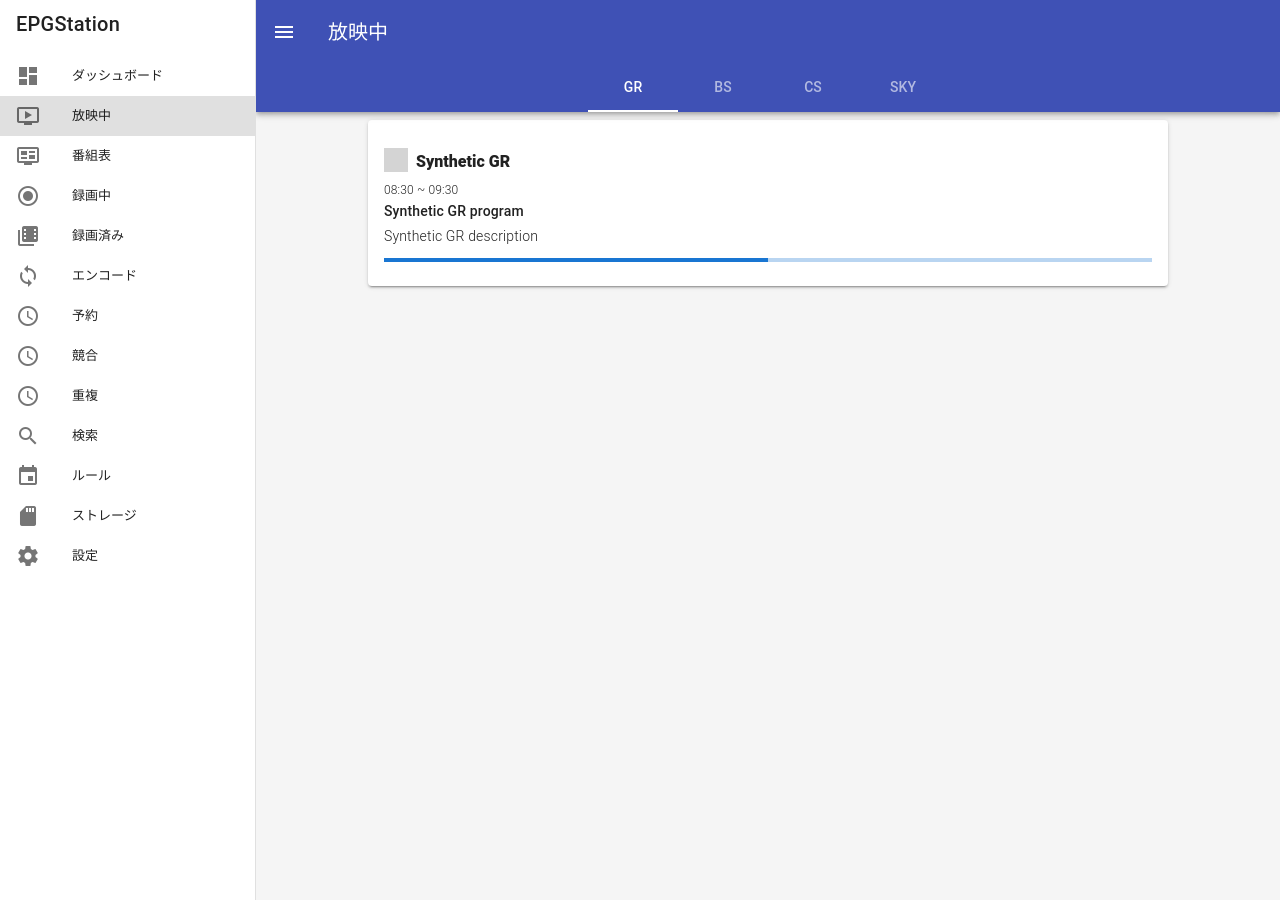
Test: On Air card and ProgramDialog actions › [AC 2.8] shows the shared cancel failure snackbar when ProgramDialog delete fails
The image size is (1280, 900).
Click the button with test id "onair-card-header" at x=400, y=160, box [384,144,1152,176]
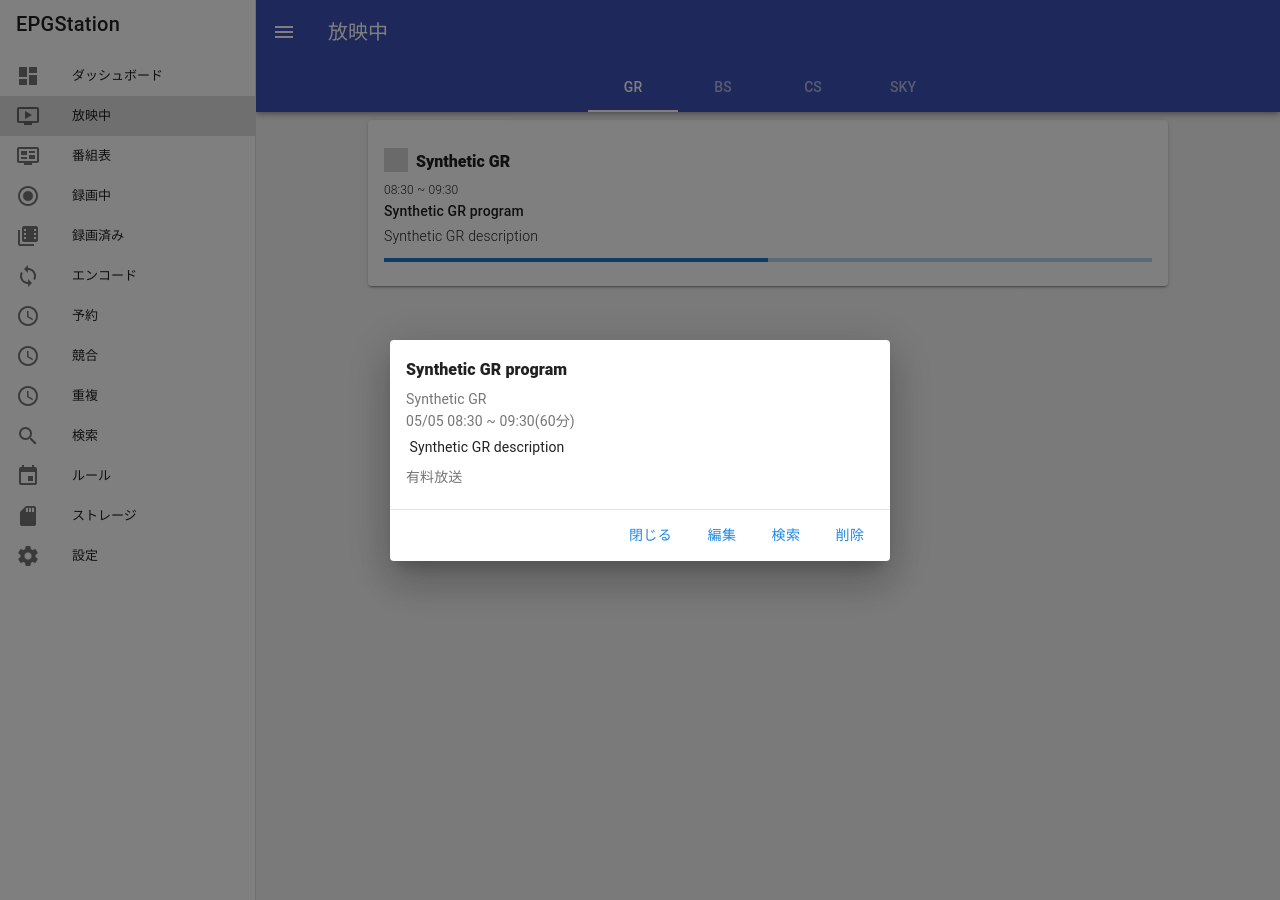
Click the button "削除" at x=850, y=536, box [818,518,882,554]
Wait 200 ms
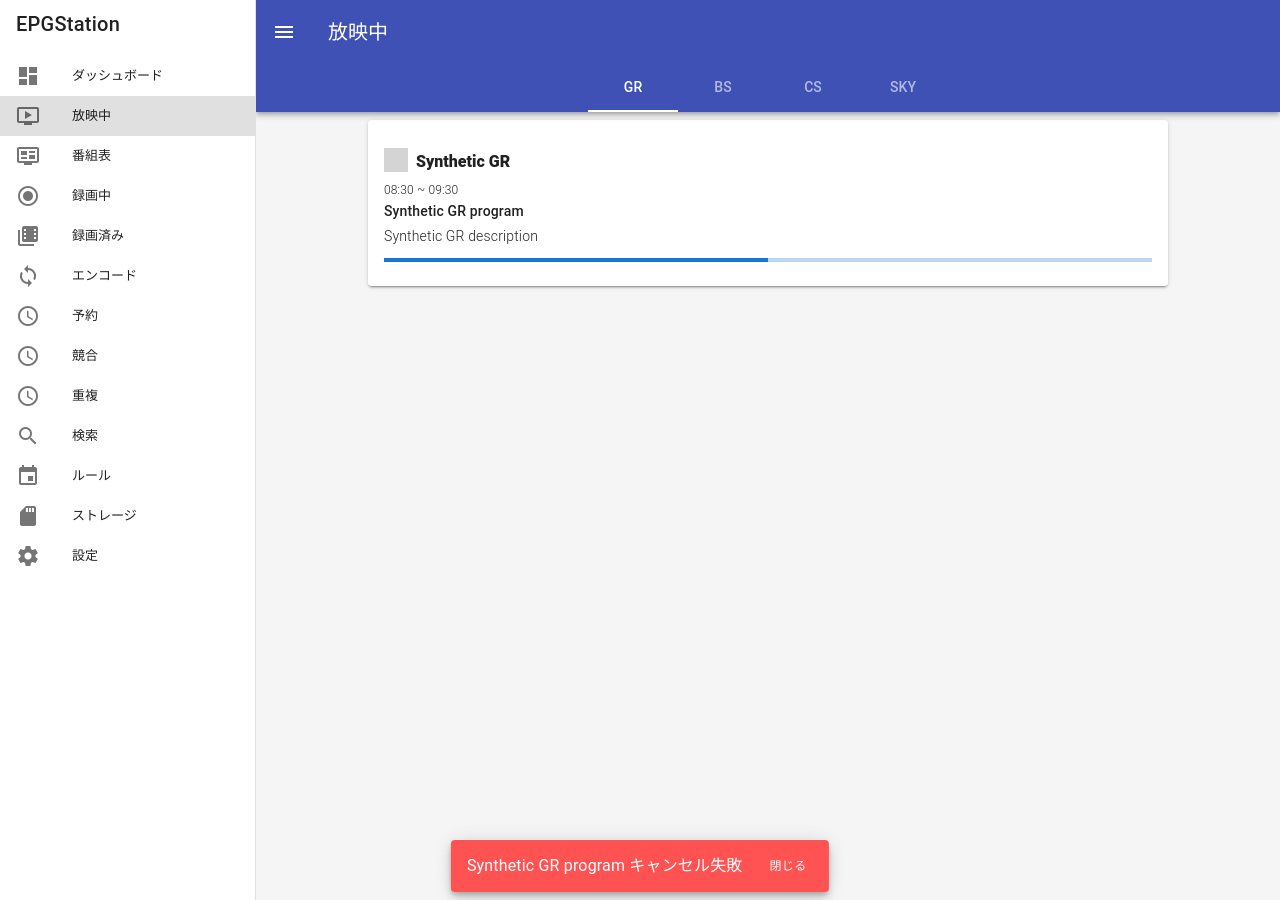
Now the message shows "Synthetic GR program キャンセル失敗", box [467,856,742,875]
